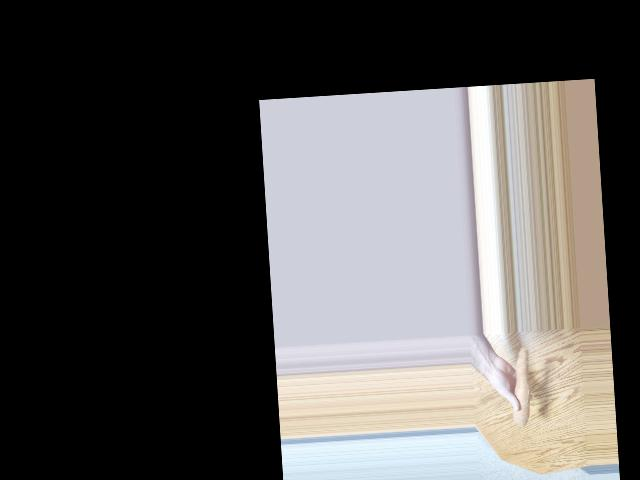sweet_potato: (511, 343, 534, 425)
